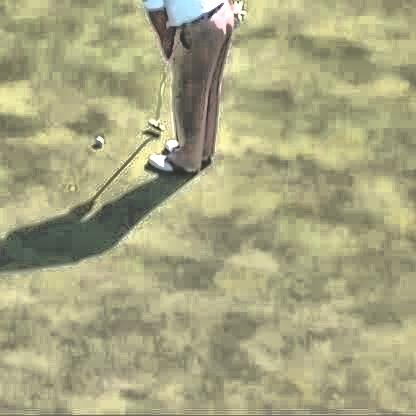golfball: (93, 135, 104, 145)
